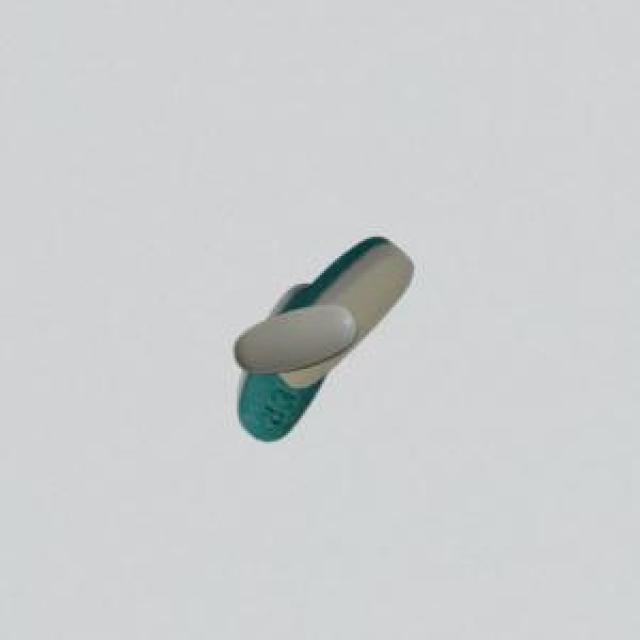Neozep: (222, 237, 425, 458)
